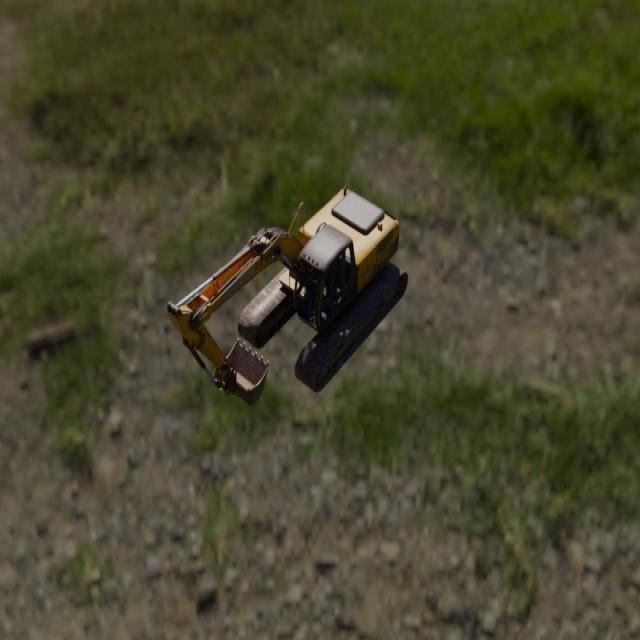excavator: (166, 184, 408, 405)
